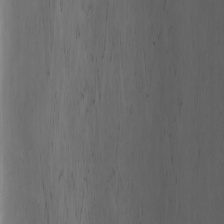silk_spot: (60, 25, 136, 187)
